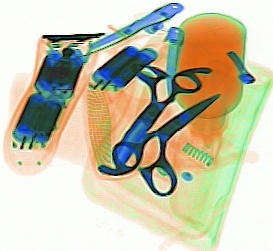scissors: (96, 92, 222, 196), (111, 59, 212, 169)
